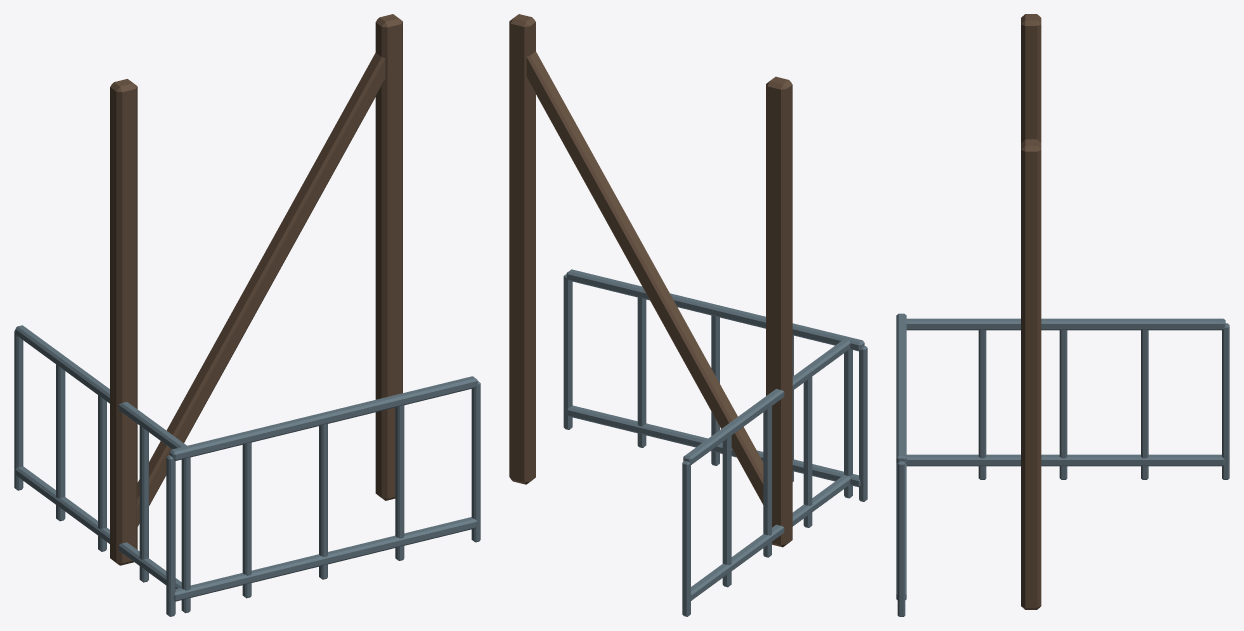
The model's file is architecture-village-rail-corner.lod0.glb.
3 renders of one model, left to right at view 1: azimuth 30°, elevation 25°; view 2: azimuth 150°, elevation 25°; view 3: azimuth 270°, elevation 25°, orthographic. The views are drawn at different scales.
Parts seen in each view (by area): view 1: architecture-village-rail-corner__body; view 2: architecture-village-rail-corner__body; view 3: architecture-village-rail-corner__body.
Part boxes in pixels (x1=…): architecture-village-rail-corner__body: x1=14, y1=14, x2=480, y2=616; architecture-village-rail-corner__body: x1=509, y1=14, x2=867, y2=616; architecture-village-rail-corner__body: x1=896, y1=14, x2=1229, y2=616.
Size of the model in its own units: 2.05 by 3 by 1.95.
